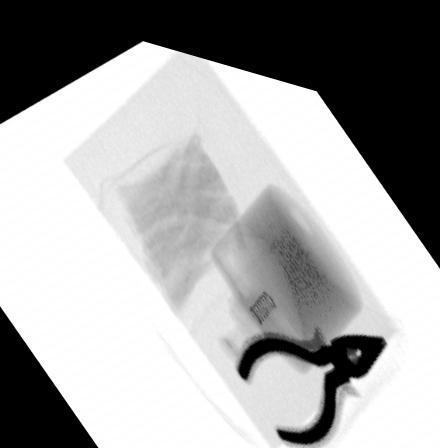Pliers: (233, 306, 388, 435)
